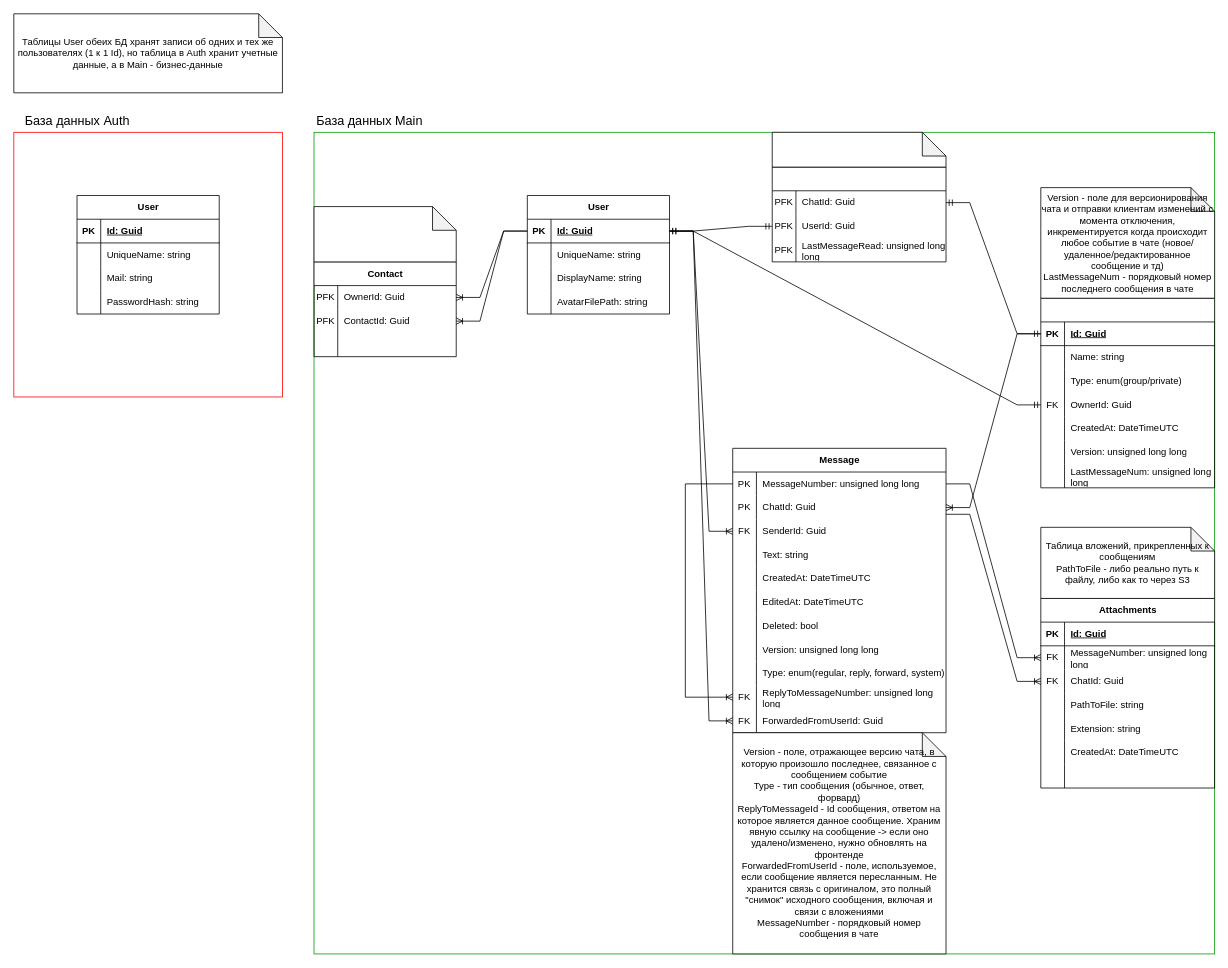
The diagram is 1228 pixels wide and 968 high, and some of its shapes have lost their labels. The box of each missing label's shape, as (x1, y1, x2, y2) in pixels:
Chat: (1040, 297, 1215, 488)
ChatUser: (771, 166, 946, 262)
LastMessageRead - номер последнего прочитанного сообщения: (771, 132, 946, 167)
Таблица контактов, OwnerId - Id владельца контакта, ContactId - Id контакта: (313, 206, 456, 262)
